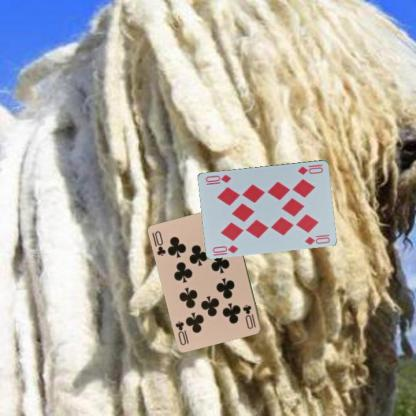10c: (240, 302, 257, 331), (152, 228, 168, 257)
10d: (210, 242, 240, 257), (295, 162, 324, 176)
